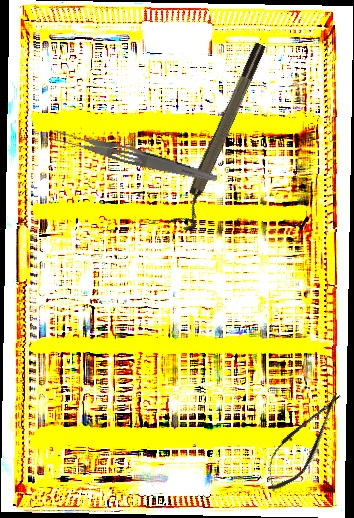Dressing Forceps: (50, 126, 220, 186)
Fixation Ring: (168, 40, 277, 234)
Micro Scissor: (254, 383, 353, 500)
